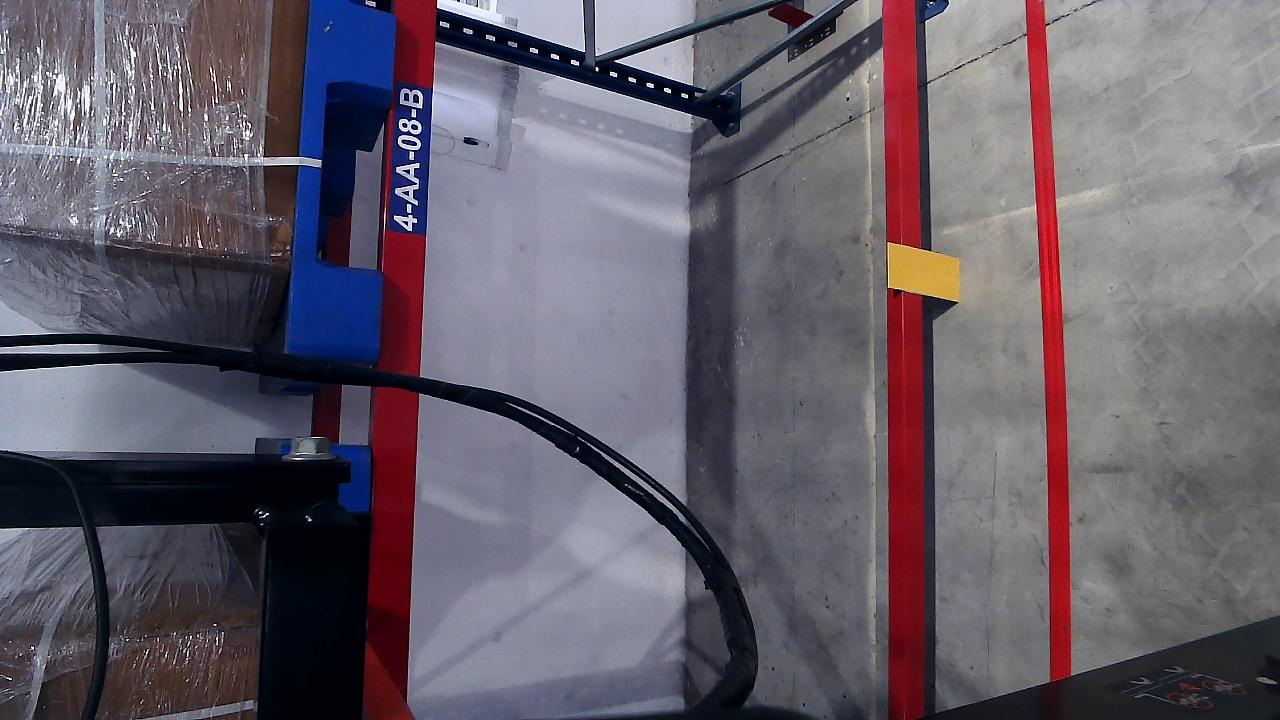h_rack: (375, 0, 440, 666), (886, 0, 931, 718)
orange_strip: (886, 242, 959, 299)
red_line: (1022, 8, 1070, 669)
small_pallet: (282, 0, 382, 362)
